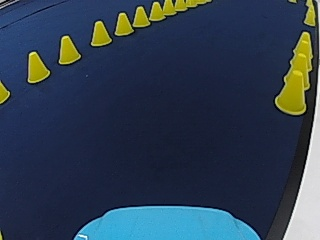cone: (275, 70, 308, 113), (282, 52, 311, 92), (290, 40, 316, 73), (26, 50, 49, 82), (57, 33, 80, 64), (89, 19, 111, 46), (114, 11, 133, 35), (132, 5, 150, 27), (149, 1, 164, 20), (303, 2, 315, 25), (0, 80, 10, 103), (162, 0, 175, 15), (175, 0, 186, 11)
